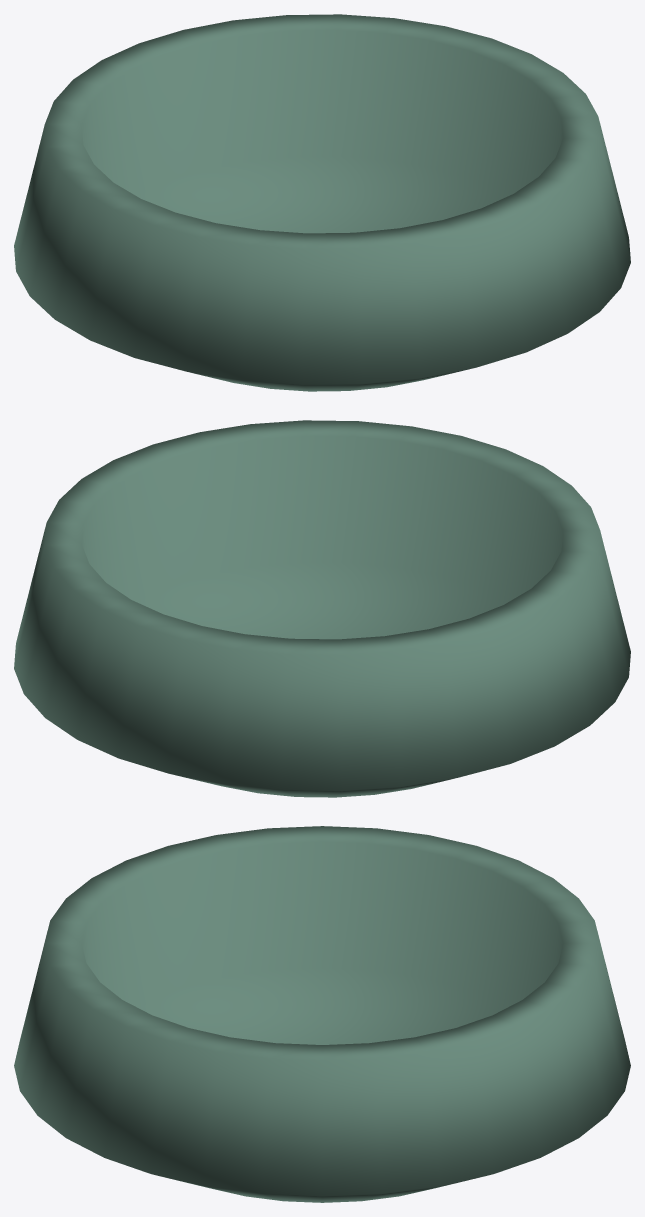
The model's file is sku_bowl.glb.
3 renders of one model, top to bottom at view 1: azimuth 30°, elevation 25°; view 2: azimuth 150°, elevation 25°; view 3: azimuth 270°, elevation 25°, orthographic.
Visible parts, largest first — view 1: sku_bowl_Glazed_ceramic_1; view 2: sku_bowl_Glazed_ceramic_1; view 3: sku_bowl_Glazed_ceramic_1.
Boxes of the visible parts, x1,y1,x2,y2 form: sku_bowl_Glazed_ceramic_1: (14,14,630,391); sku_bowl_Glazed_ceramic_1: (14,420,630,797); sku_bowl_Glazed_ceramic_1: (14,826,630,1202).
Size of the model in its own units: 0.32 by 0.1 by 0.32.
